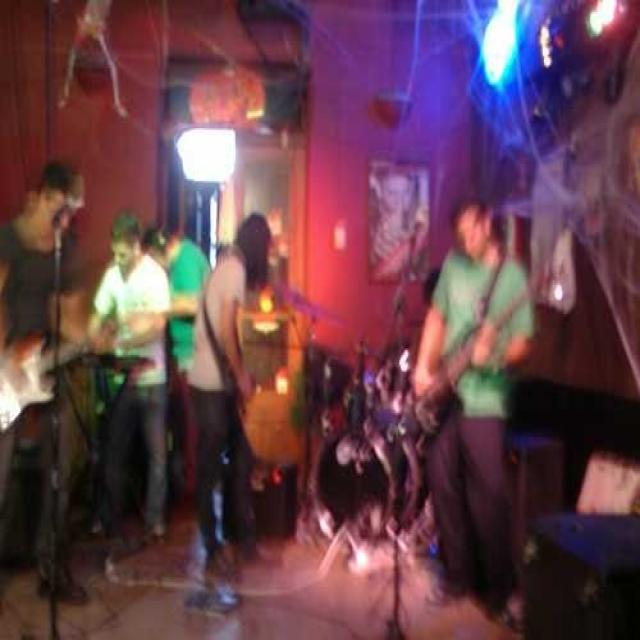microphone: (406, 204, 431, 282), (51, 190, 82, 249)
